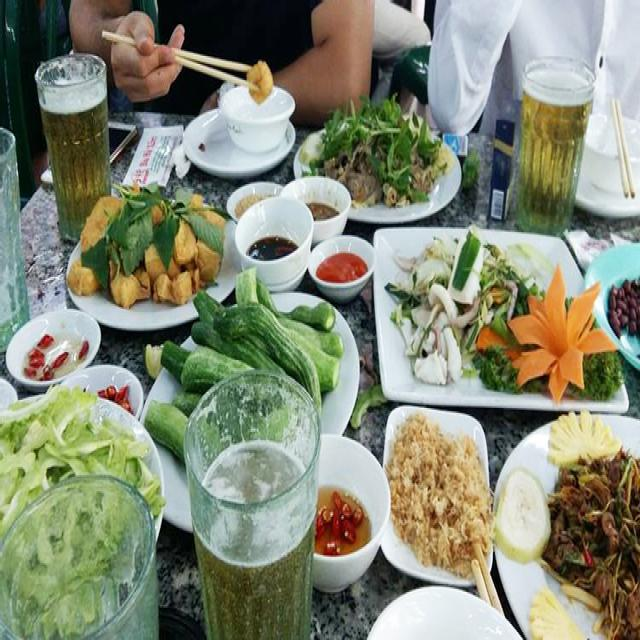bi ngoi: (140, 276, 364, 477)
bia: (34, 62, 116, 243), (522, 61, 589, 230)
dau hu chien: (74, 185, 226, 313)
dau phong rang: (595, 221, 640, 352)
kho qua: (1, 375, 164, 640)
muc hap: (377, 234, 627, 400)
xi dau: (241, 204, 300, 266)
